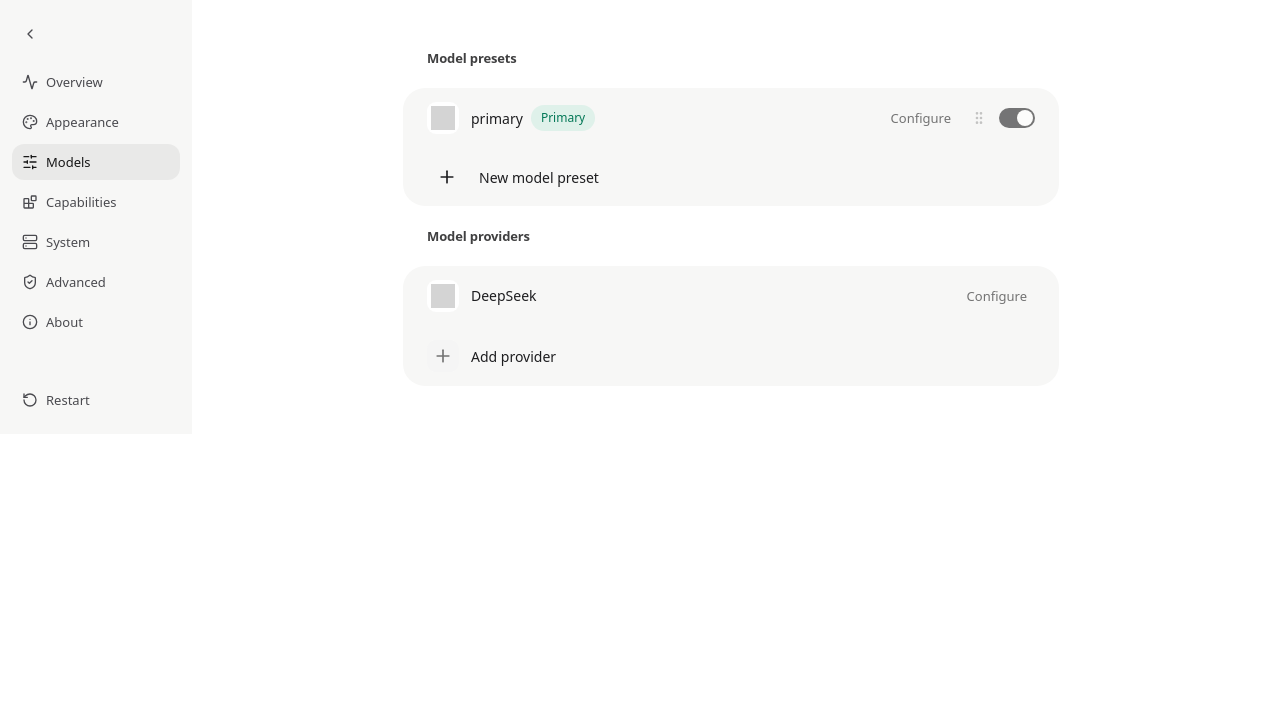
Settings models › keeps unsigned OAuth providers out of the active provider picker
Click the button "primary Primary Configure": [443, 118] box [427,102,959,134]
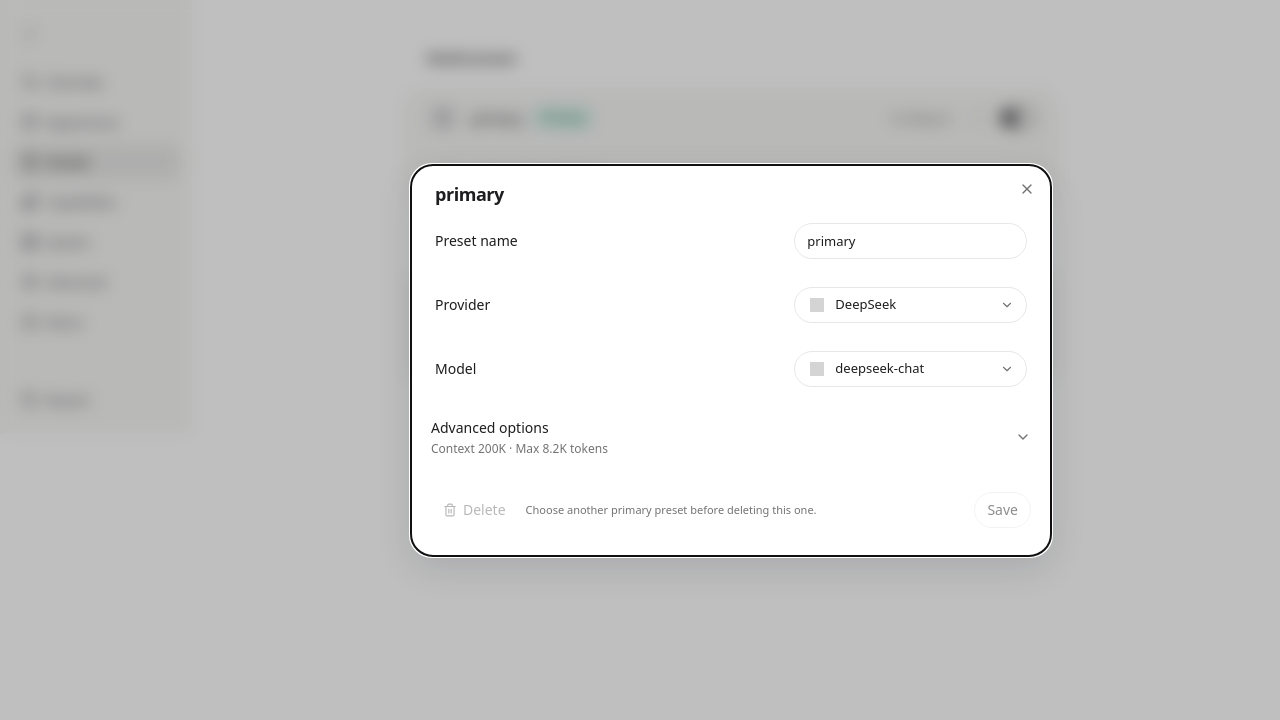
Press ArrowDown in the dropdown labelled "DeepSeek", box [794,286,1027,322]
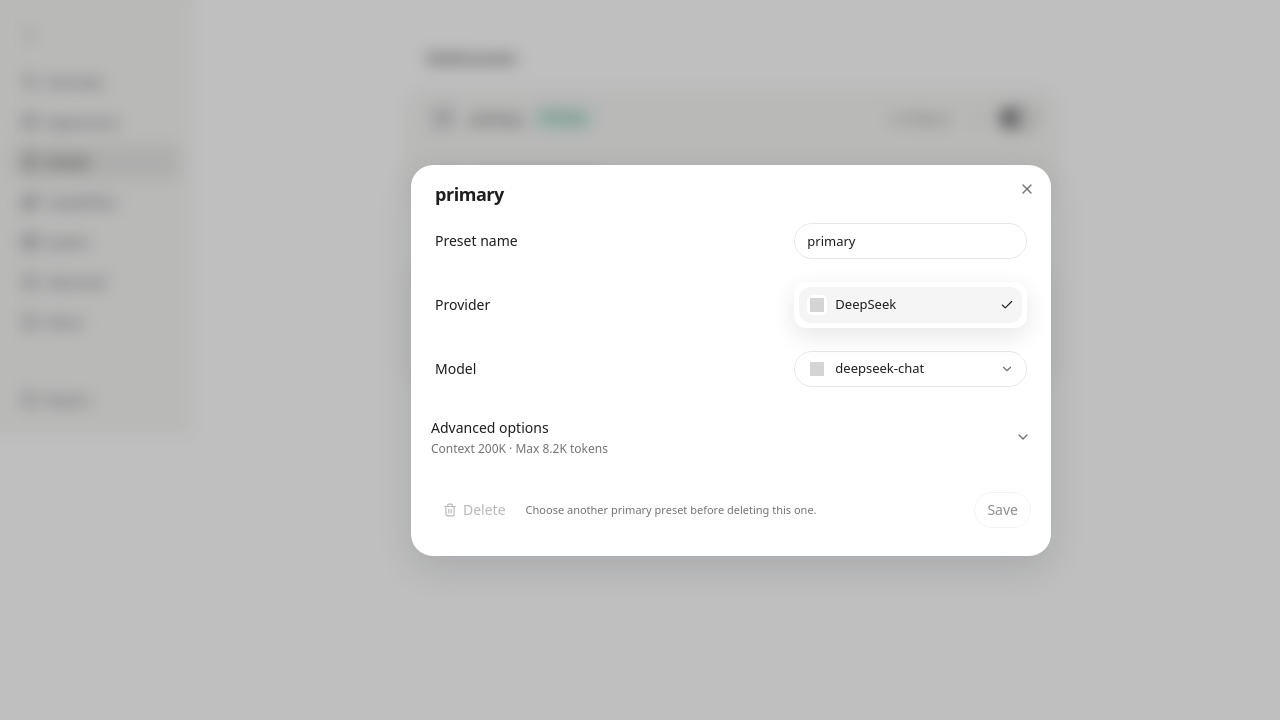
Check: the option "DeepSeek" is shown, box [799,286,1022,322]
